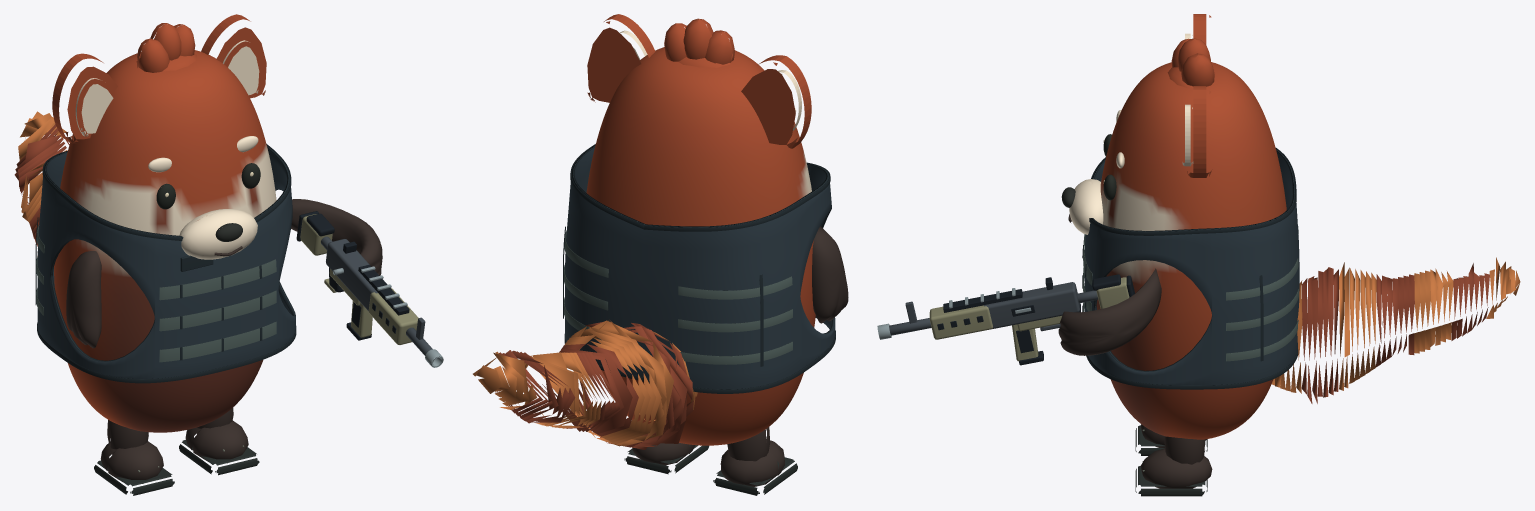
File: species-grips-redpanda-ready-preview.glb
3 renders of one model, left to right at view 1: azimuth 30°, elevation 25°; view 2: azimuth 150°, elevation 25°; view 3: azimuth 270°, elevation 25°, orthographic. The views are drawn at different scales.
Parts seen in each view (by area): view 1: redpanda_torso_mesh, redpanda_vest_refined_mesh, redpanda_leftFoot_mesh, redpanda_leftEar_mesh, redpanda_tail_mesh, redpanda_snout_mesh, redpanda_rightFoot_mesh, redpanda_leftArm_mesh, redpanda_rightEar_mesh, prop_m4_m4 painted furniture, redpanda_rightArm_mesh, redpanda_crestShort_mesh (+3 smaller); view 2: redpanda_vest_refined_mesh, redpanda_torso_mesh, redpanda_tail_mesh, redpanda_leftEar_mesh, redpanda_leftFoot_mesh, redpanda_rightEar_mesh, redpanda_crestShort_mesh, redpanda_leftArm_mesh, redpanda_rightFoot_mesh; view 3: redpanda_torso_mesh, redpanda_vest_refined_mesh, redpanda_tail_mesh, redpanda_rightArm_mesh, redpanda_rightFoot_mesh, prop_m4_Cerakote graphite, prop_m4_m4 painted furniture, prop_m4_Recesses and rubber, redpanda_crestShort_mesh, redpanda_rightEar_mesh, redpanda_snout_mesh.
Part boxes in pixels (x1,y1,x2,y2): redpanda_torso_mesh: [54, 50, 276, 432]; redpanda_vest_refined_mesh: [35, 144, 296, 383]; redpanda_leftFoot_mesh: [94, 420, 174, 495]; redpanda_leftEar_mesh: [52, 53, 117, 143]; redpanda_tail_mesh: [14, 111, 69, 256]; redpanda_snout_mesh: [179, 209, 257, 259]; redpanda_rightFoot_mesh: [179, 407, 259, 475]; redpanda_leftArm_mesh: [66, 251, 101, 348]; redpanda_rightEar_mesh: [201, 14, 266, 98]; prop_m4_m4 painted furniture: [300, 214, 418, 344]; redpanda_rightArm_mesh: [291, 199, 382, 275]; redpanda_crestShort_mesh: [136, 23, 196, 72]; redpanda_vest_refined_mesh: [563, 144, 835, 393]; redpanda_torso_mesh: [586, 47, 815, 445]; redpanda_tail_mesh: [473, 320, 697, 449]; redpanda_leftEar_mesh: [741, 55, 811, 148]; redpanda_leftFoot_mesh: [713, 427, 797, 495]; redpanda_rightEar_mesh: [587, 14, 655, 102]; redpanda_crestShort_mesh: [664, 18, 734, 67]; redpanda_leftArm_mesh: [812, 226, 848, 323]; redpanda_rightFoot_mesh: [624, 443, 709, 474]; redpanda_torso_mesh: [1096, 62, 1286, 439]; redpanda_vest_refined_mesh: [1082, 147, 1299, 389]; redpanda_tail_mesh: [1271, 257, 1520, 403]; redpanda_rightArm_mesh: [1058, 268, 1161, 355]; redpanda_rightFoot_mesh: [1135, 436, 1212, 496]; prop_m4_Cerakote graphite: [889, 282, 1098, 335]; prop_m4_m4 painted furniture: [929, 277, 1129, 361]; prop_m4_Recesses and rubber: [937, 274, 1134, 365]; redpanda_crestShort_mesh: [1167, 38, 1216, 88]; redpanda_rightEar_mesh: [1182, 86, 1212, 177]; redpanda_snout_mesh: [1061, 179, 1103, 234].
Size of the model in its own units: 1.31 by 1.98 by 2.69.
